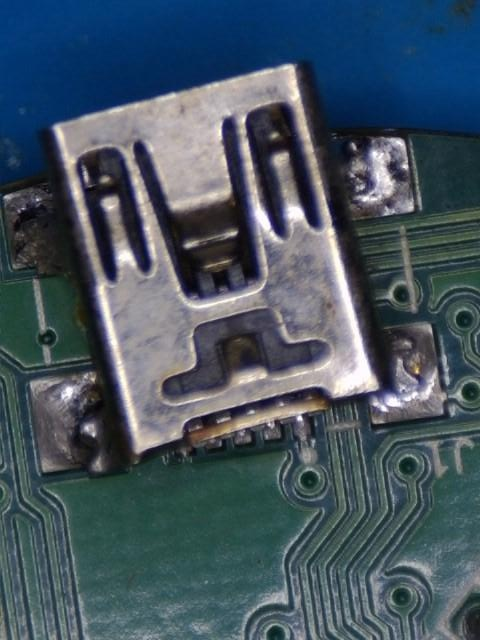pcb_defect: (1, 59, 448, 478)
